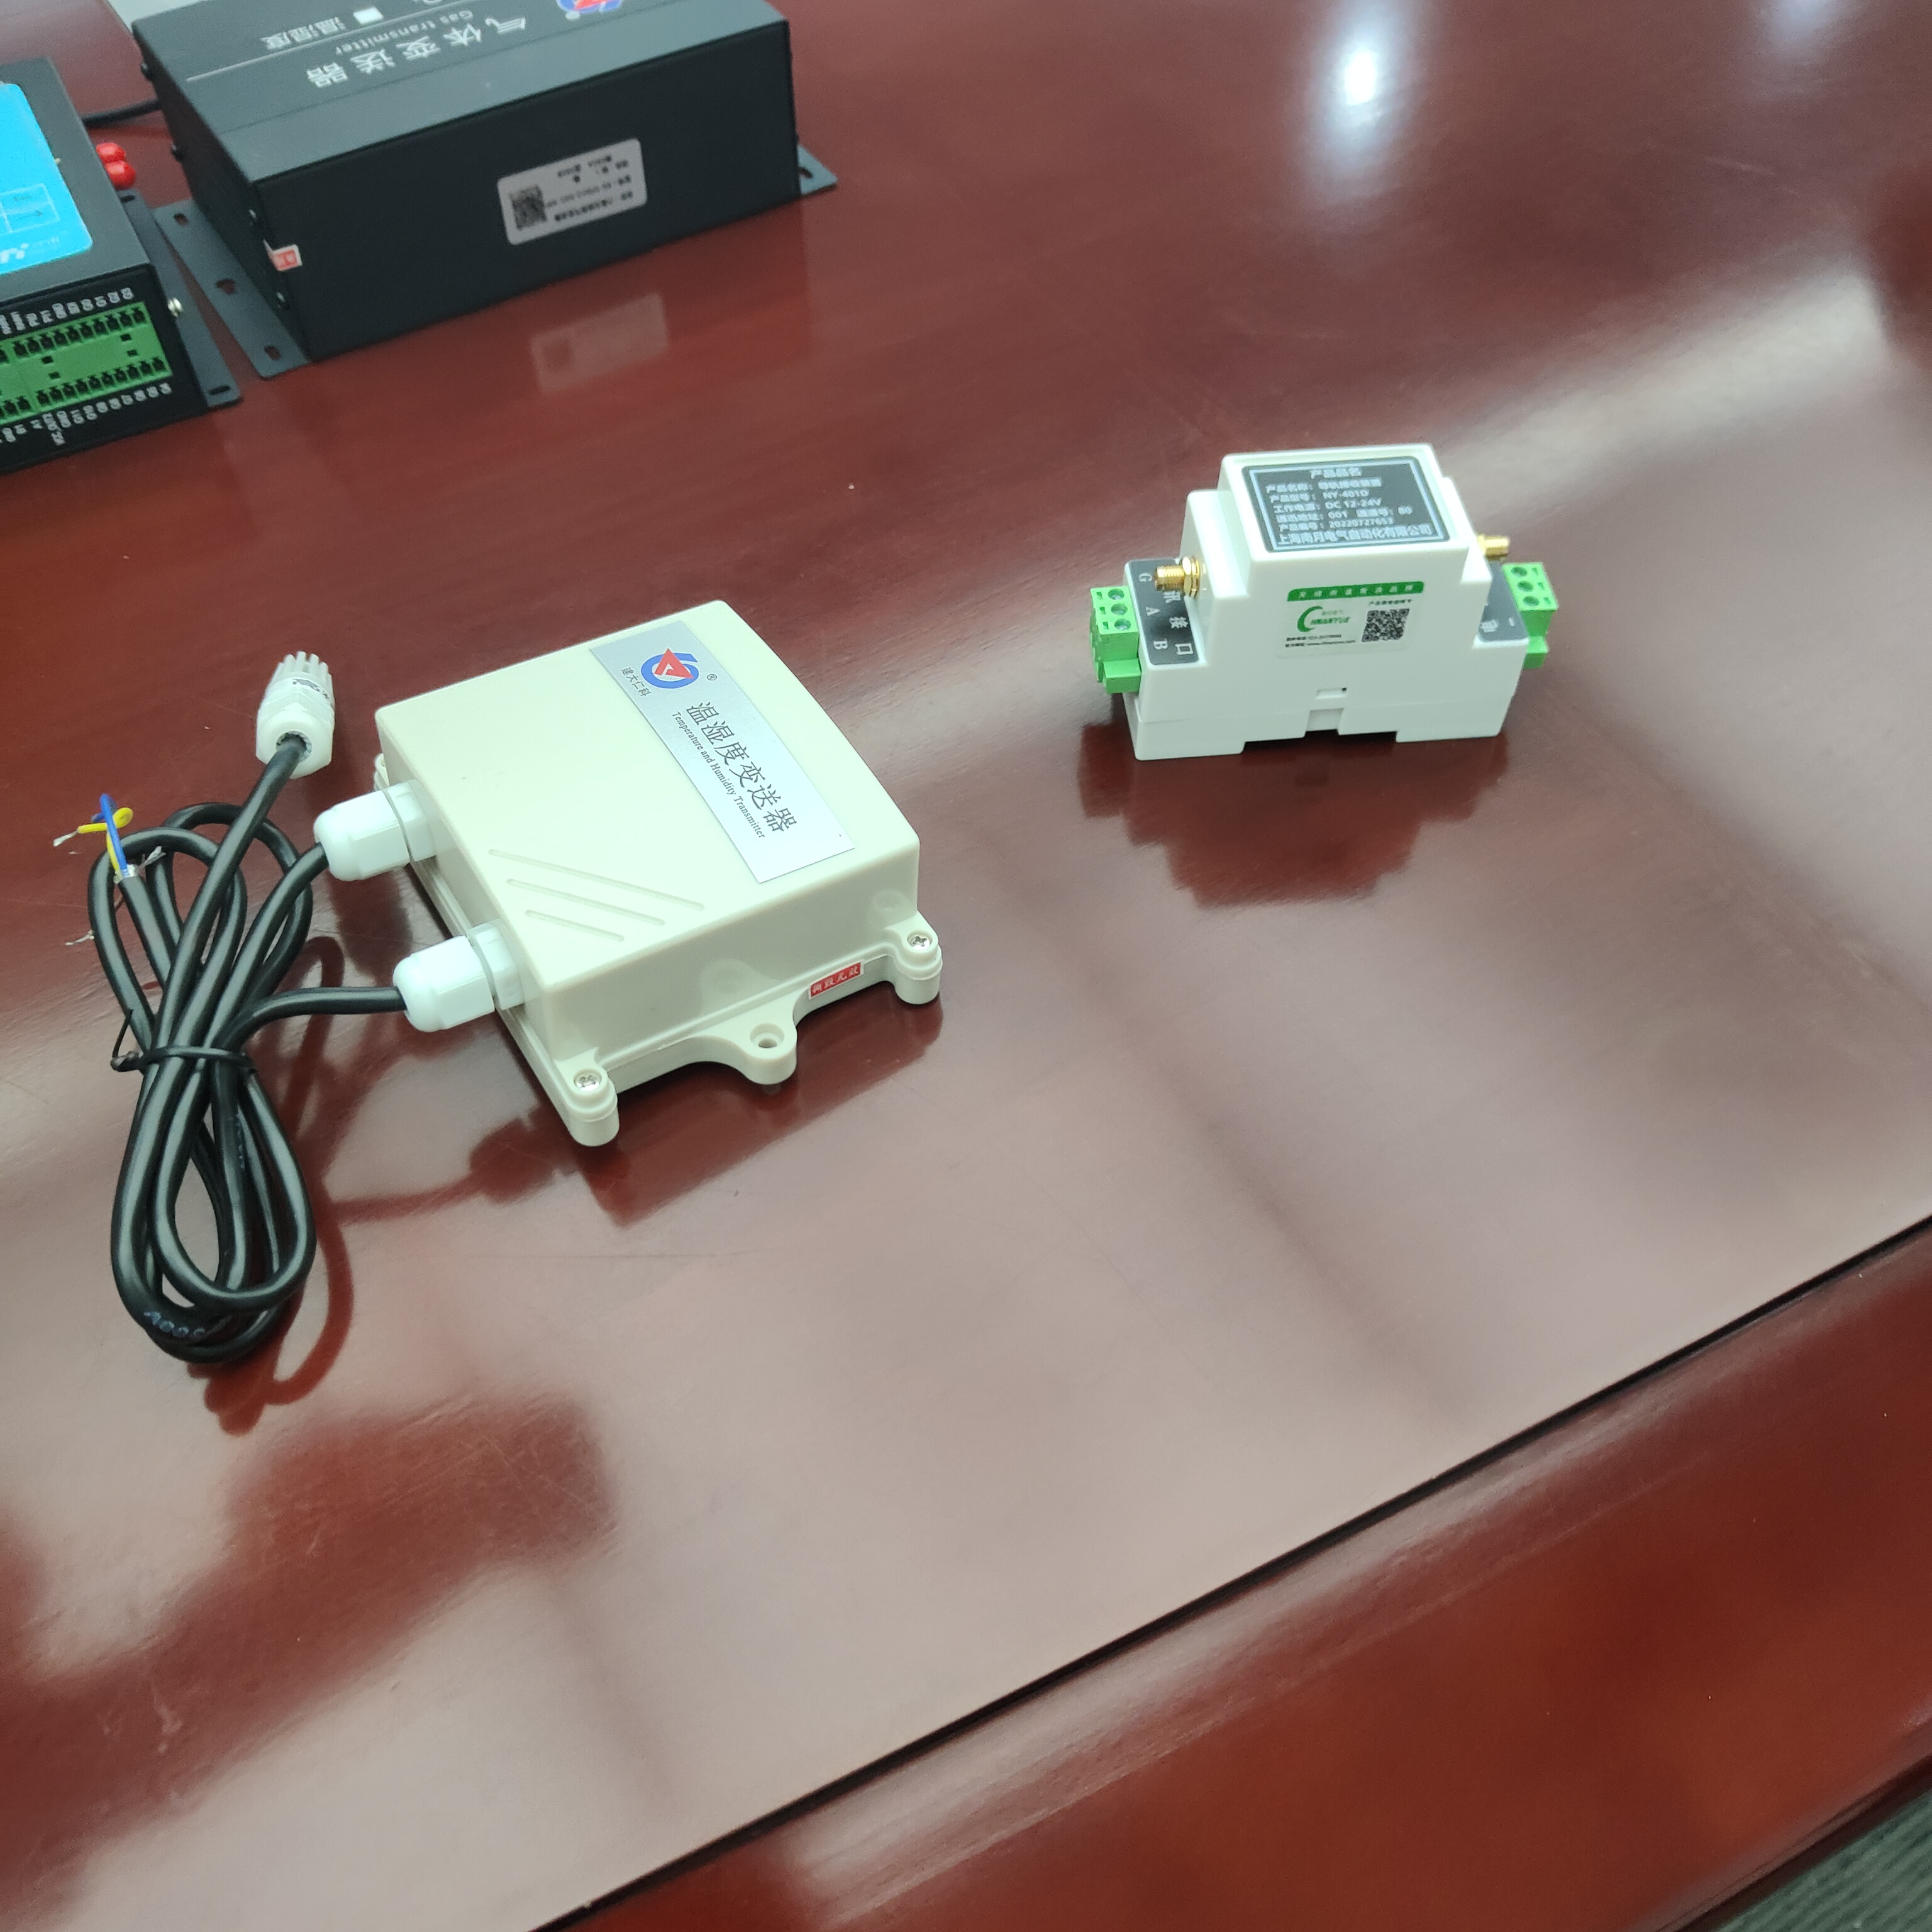dgjs: (1049, 410, 1617, 817)
qtbsq: (129, 4, 906, 320)
wsdbsq: (333, 586, 975, 1145)
